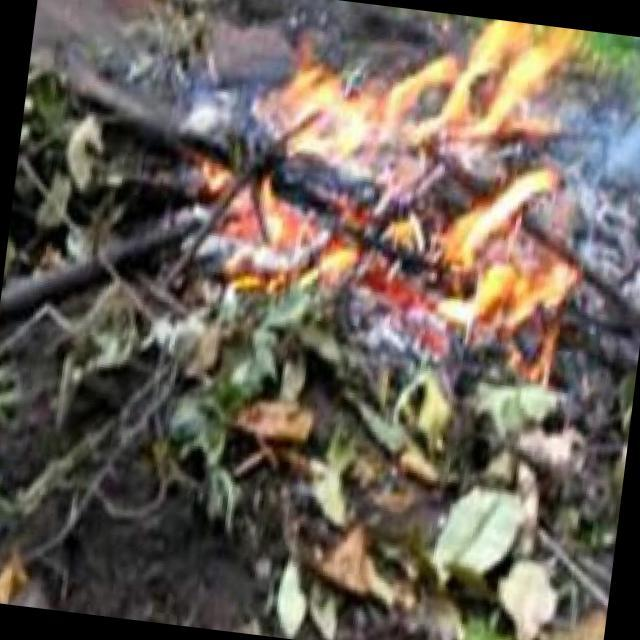Fire: (273, 1, 589, 197), (374, 147, 575, 382), (204, 169, 386, 311)
